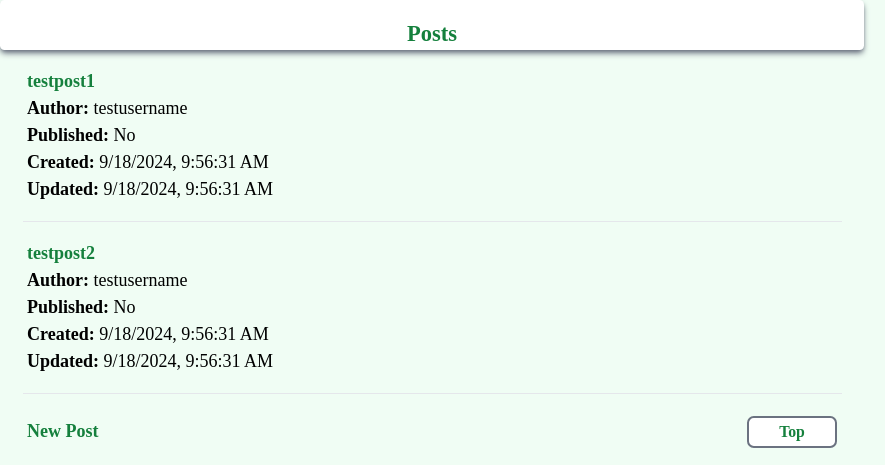
Test: posts page test › posts page links › navigate to new post page
The image size is (885, 465).
Click the link "New Post".
click(63, 432)  # box [27,418,98,445]
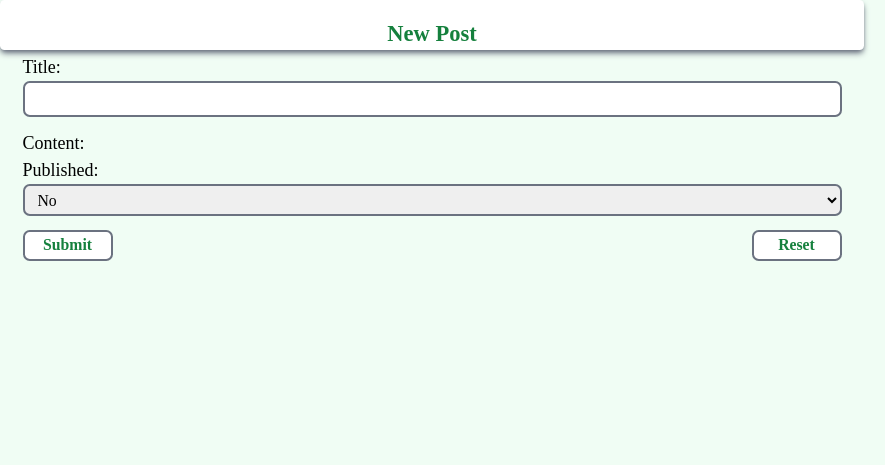
Check: the heading "New Post" is shown, box [387,21,477,46]
